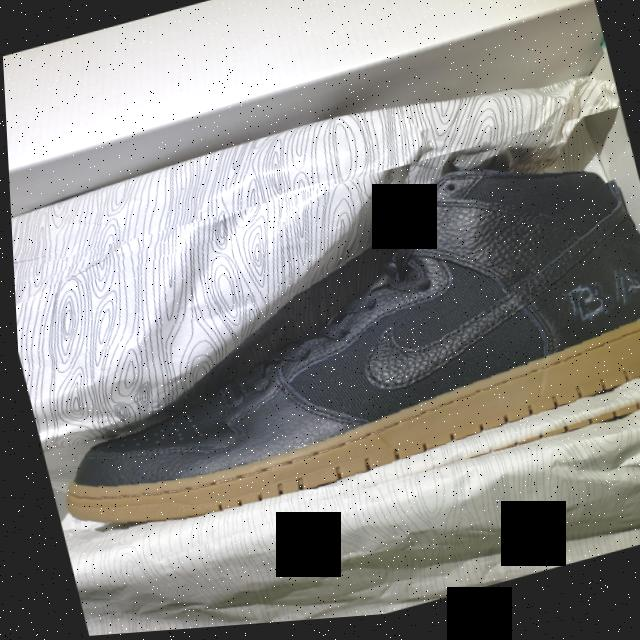shoe: (6, 115, 640, 590)
